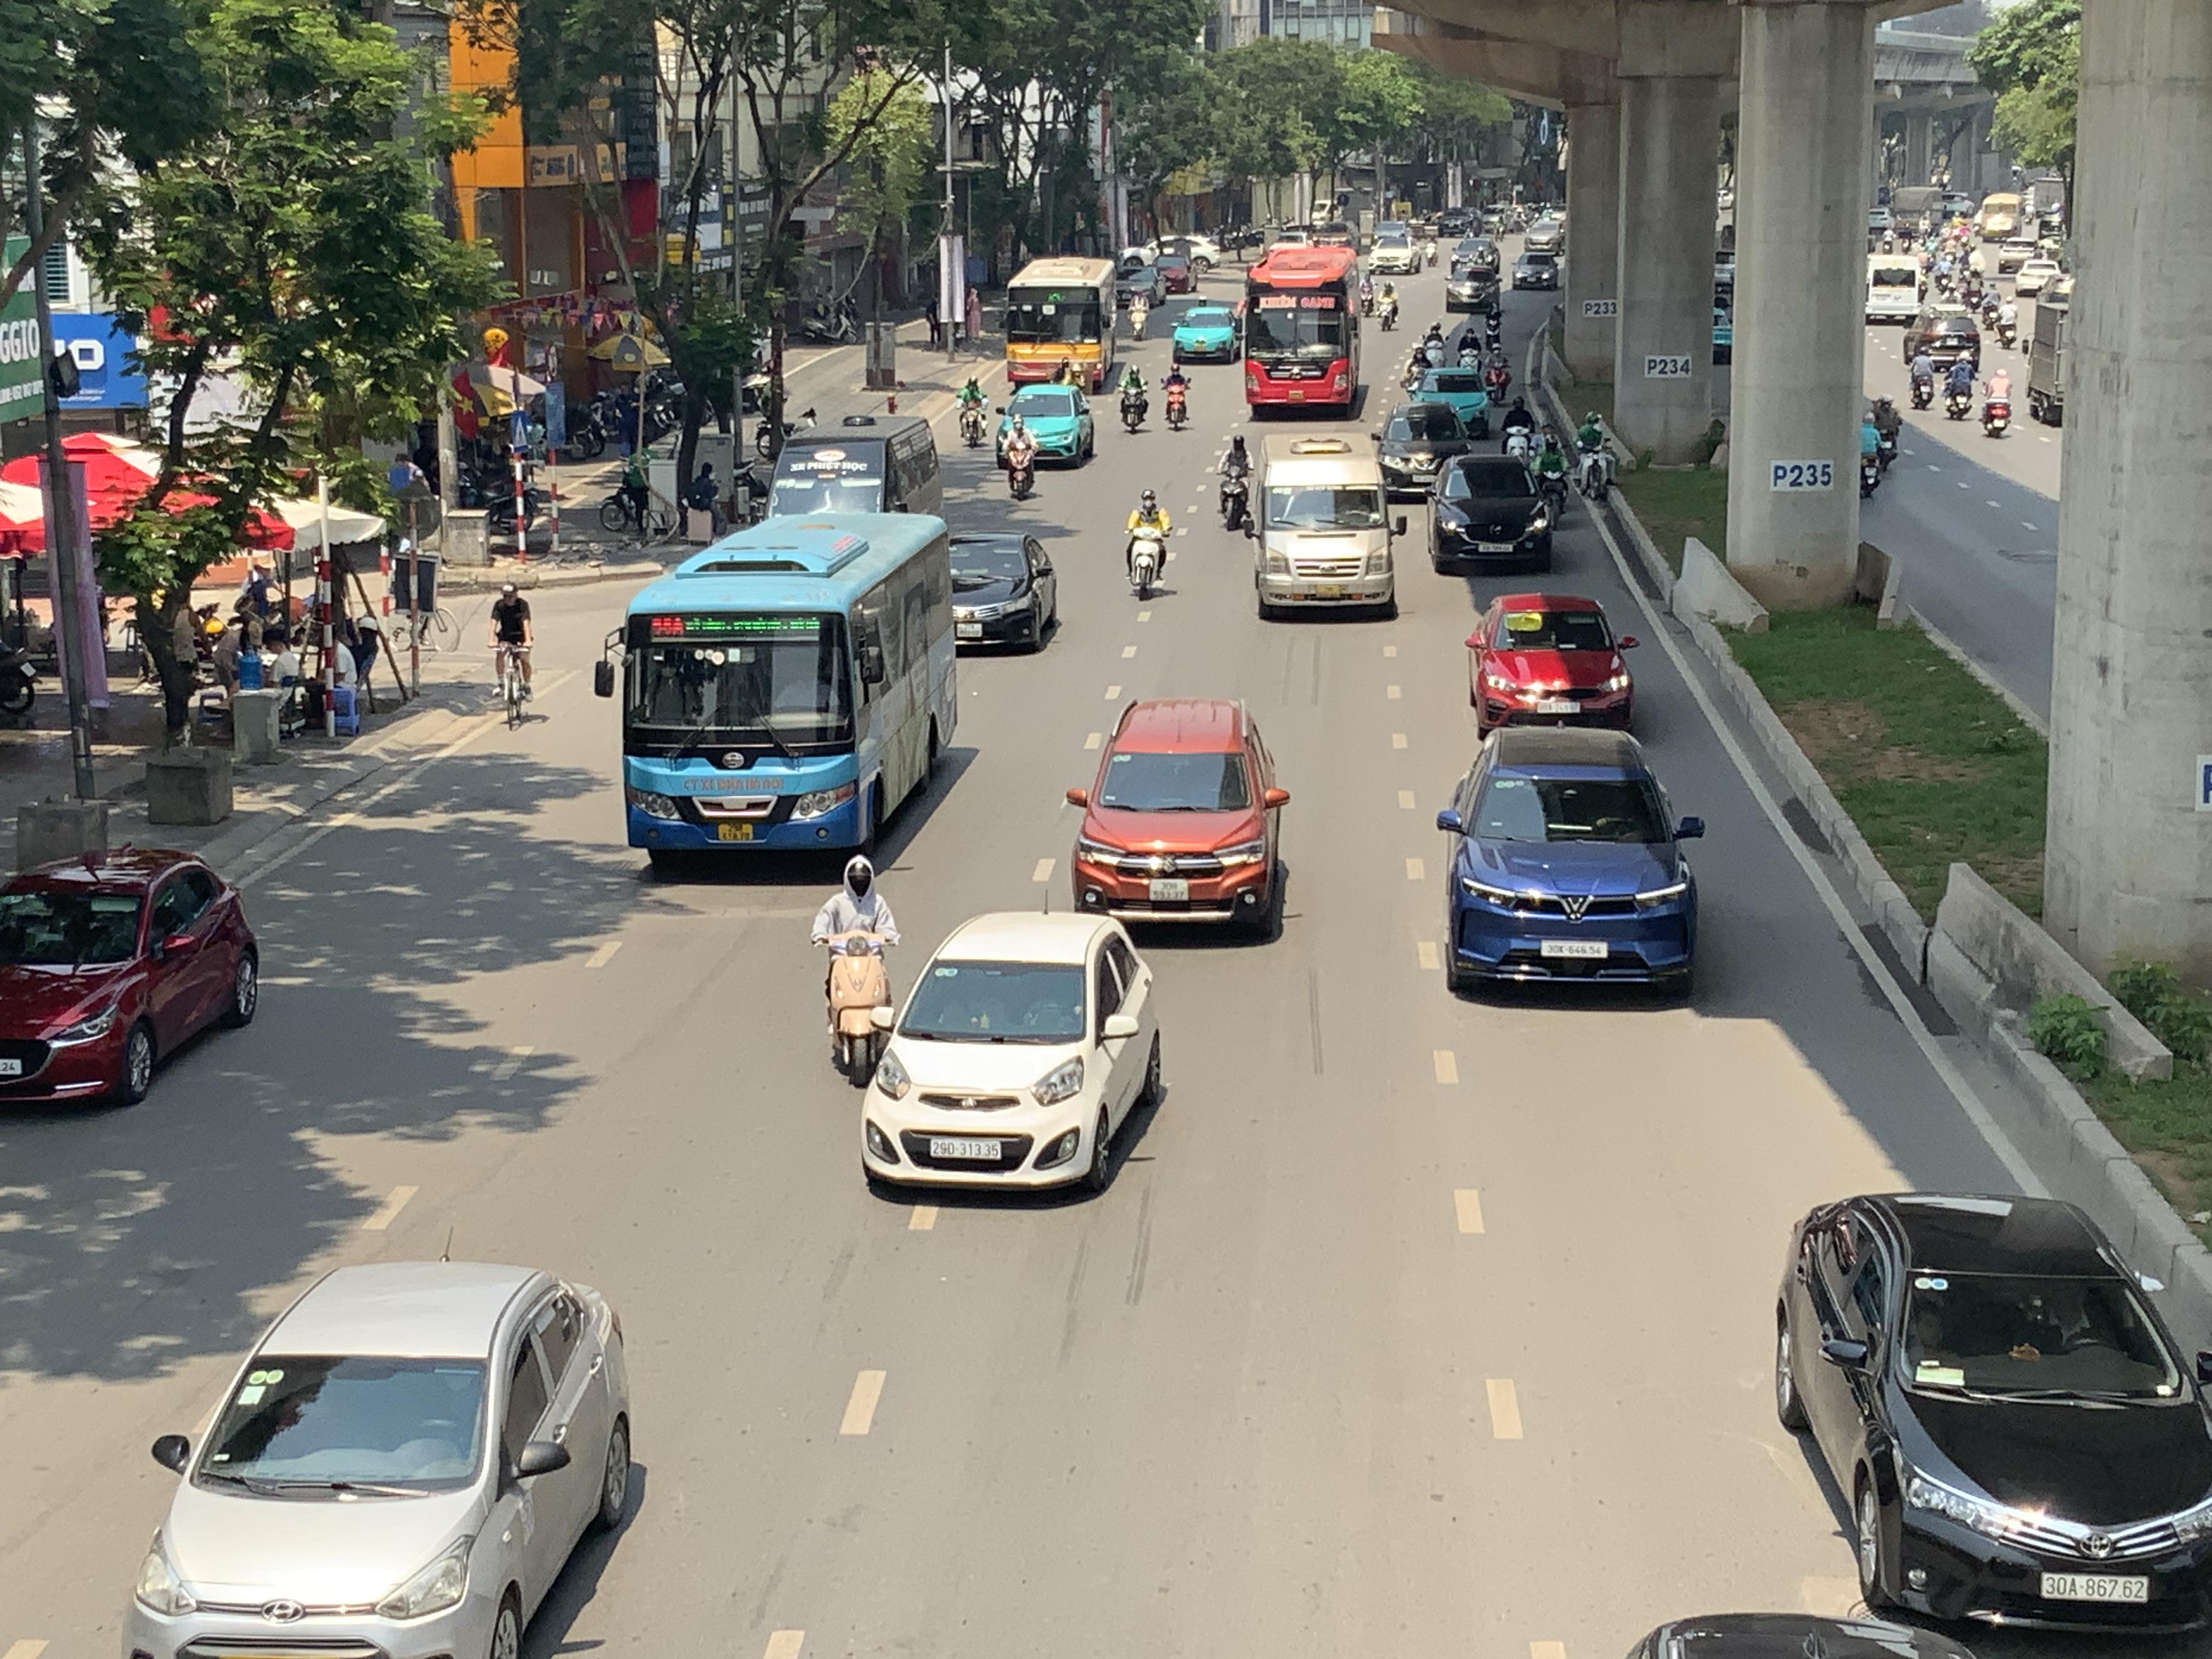BSD: (2041, 1572, 2148, 1601), (930, 1138, 1001, 1159), (1541, 939, 1608, 958)
BSV: (1150, 878, 1190, 903), (718, 823, 754, 842)
bus: (596, 507, 961, 863), (1256, 432, 1411, 626), (1240, 240, 1366, 418), (1000, 254, 1118, 392), (1864, 251, 1928, 324)
car: (120, 1260, 648, 1659), (1770, 1188, 2212, 1649), (857, 910, 1169, 1201), (1435, 723, 1707, 1000), (0, 843, 263, 1112), (1062, 695, 1292, 941), (1465, 591, 1637, 737), (1423, 450, 1557, 575), (946, 532, 1061, 655), (1374, 401, 1472, 497), (1001, 380, 1097, 467), (1414, 362, 1493, 437), (1902, 303, 1980, 371), (1170, 303, 1240, 364), (1120, 234, 1221, 274), (1444, 267, 1501, 314), (1367, 235, 1425, 275), (1115, 267, 1167, 308), (1510, 251, 1561, 291), (2015, 258, 2060, 298), (1153, 256, 1198, 295), (1996, 235, 2040, 272)
motorbike: (813, 856, 899, 1087), (489, 580, 542, 735), (599, 457, 676, 538), (1125, 488, 1172, 599), (0, 612, 40, 727), (1571, 408, 1618, 504), (1216, 432, 1256, 533), (1533, 429, 1573, 525), (1000, 408, 1040, 502), (954, 371, 989, 450), (1501, 390, 1541, 458), (1116, 361, 1151, 434), (1872, 392, 1904, 471), (1980, 368, 2013, 437), (1942, 354, 1975, 420), (1162, 359, 1191, 432), (1860, 410, 1883, 498), (1907, 345, 1937, 411), (1484, 343, 1514, 404), (1994, 296, 2019, 349), (1129, 288, 1151, 343), (1423, 321, 1447, 368), (1378, 281, 1400, 331), (1482, 301, 1503, 350), (1980, 281, 2001, 329), (1458, 328, 1480, 371), (1965, 265, 1984, 314)
truck: (766, 410, 944, 521)
